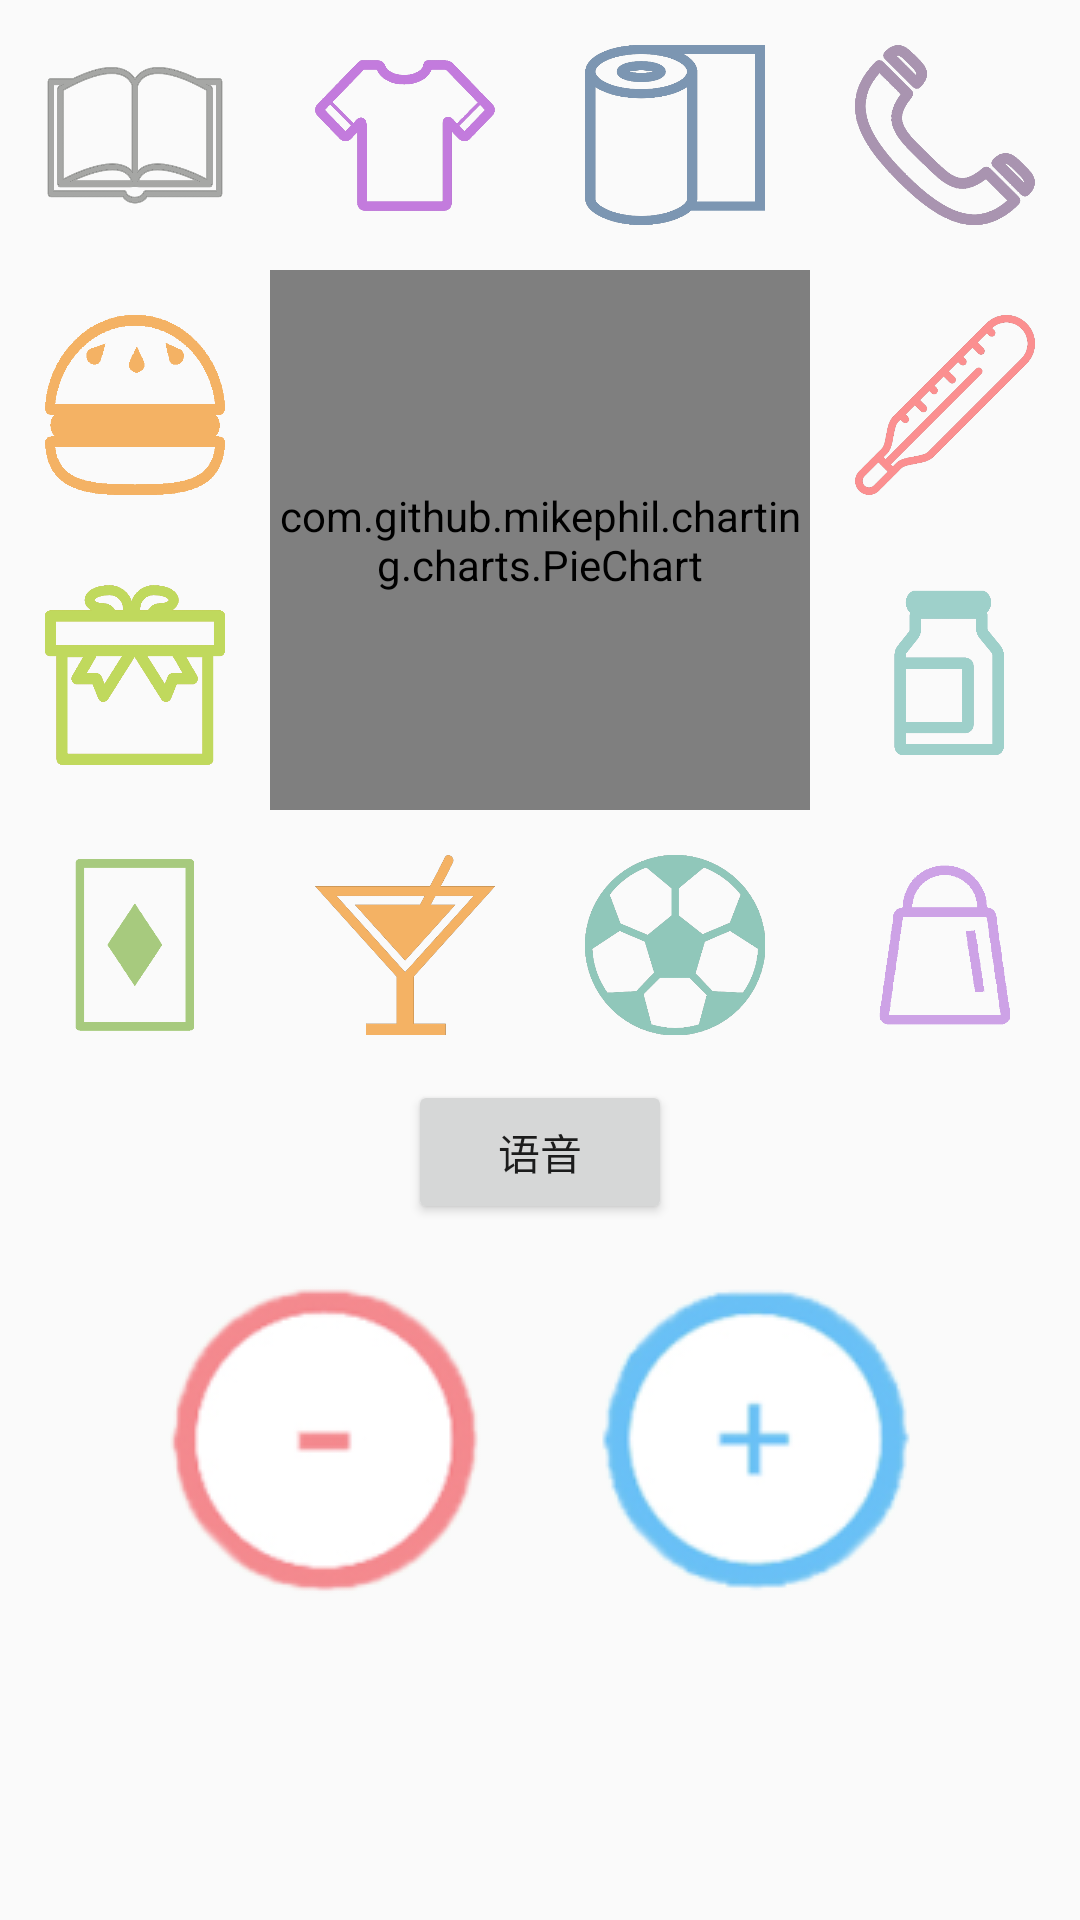

Icon bounding boxes for this 1080px×1920px phone screenshot, format (x1, y1, x2, y2):
add: (602, 1292, 909, 1588)
cate book: (47, 67, 223, 204)
cate clothes: (315, 60, 495, 211)
cate commodity: (585, 45, 765, 225)
cate communication: (855, 45, 1035, 225)
cate food: (45, 315, 225, 495)
cate gift: (45, 585, 225, 765)
cate health: (855, 315, 1035, 495)
cate milk: (894, 591, 1004, 755)
cate play: (75, 859, 194, 1031)
cate recreation: (315, 855, 495, 1035)
cate shopping: (880, 865, 1010, 1025)
cate sport: (585, 855, 765, 1035)
sub: (172, 1290, 477, 1590)
